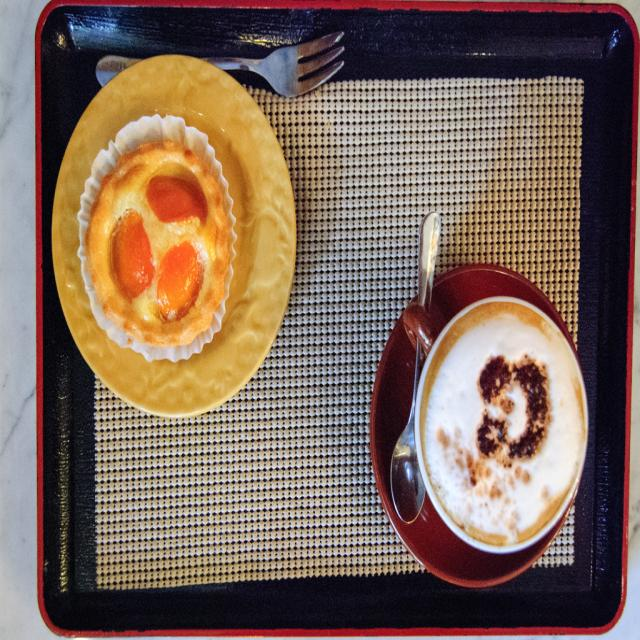Coffee: (412, 272, 584, 577)
